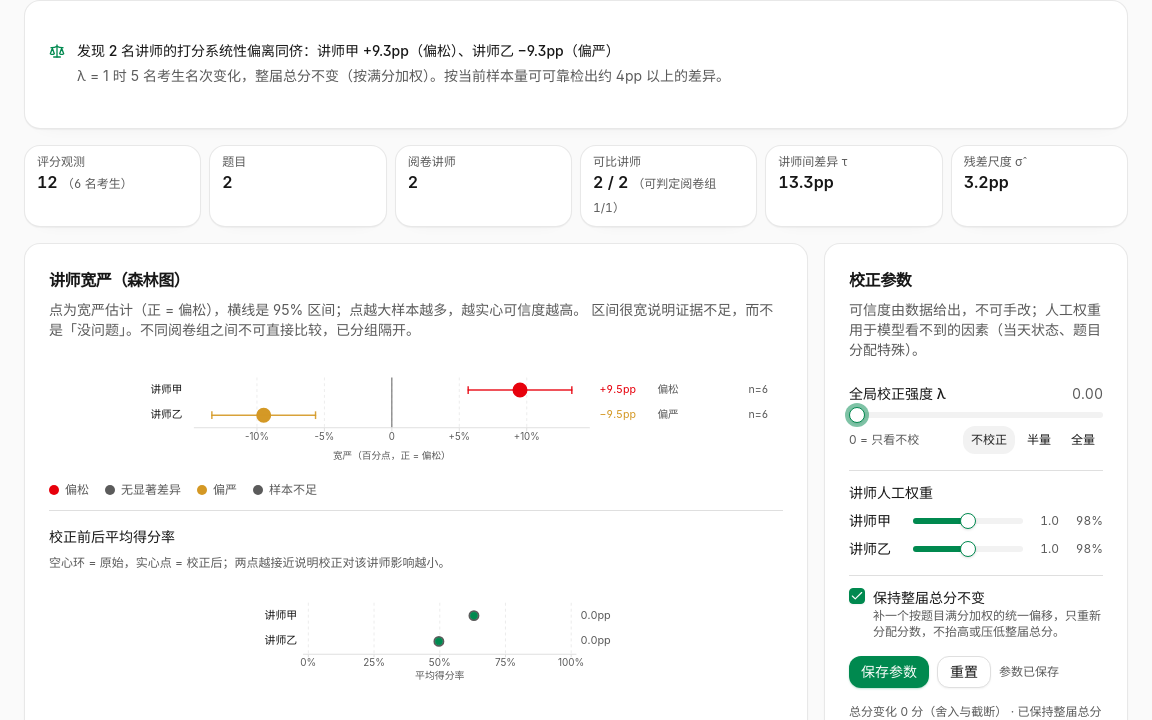
Test: GradingFairnessDashboard › 保存参数把 flowId、λ 与人工权重交给服务端，并在成功后清掉「未保存」提示
Expected: the text "参数已保存" is shown, x1=999 y1=664 x2=1059 y2=680
Press End
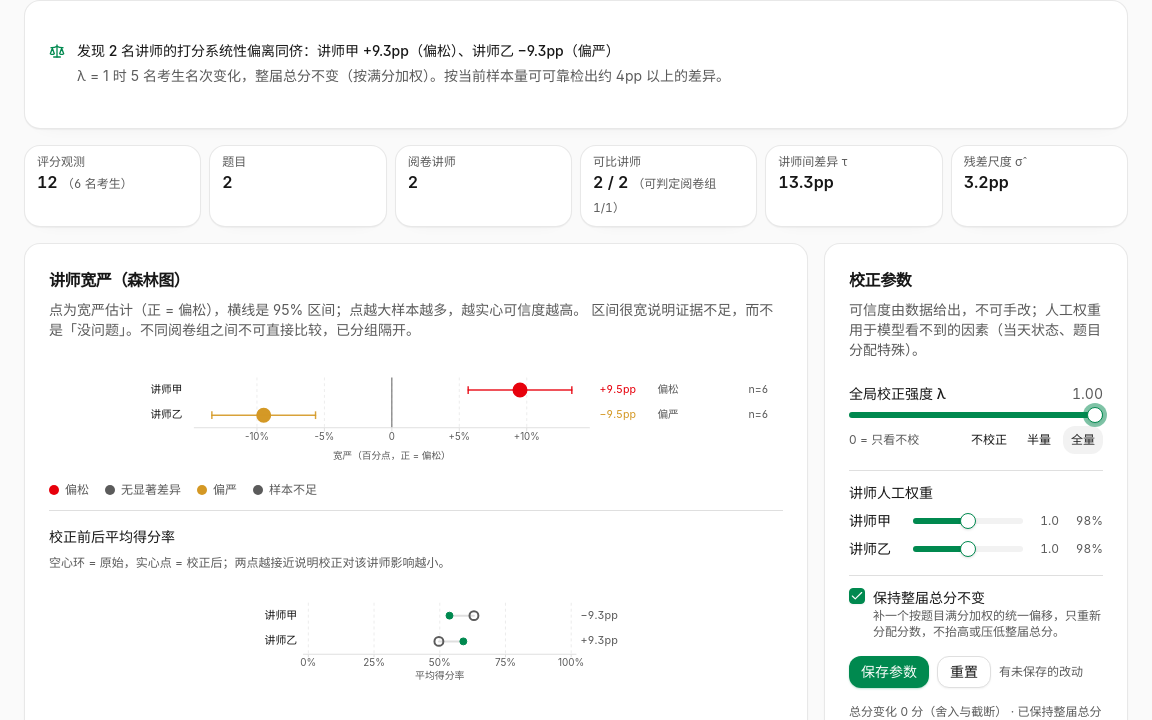
Now the text "有未保存的改动" is shown, box x1=999 y1=664 x2=1083 y2=680
Click the button "保存参数": coordinates (889, 672) x1=849 y1=656 x2=929 y2=688
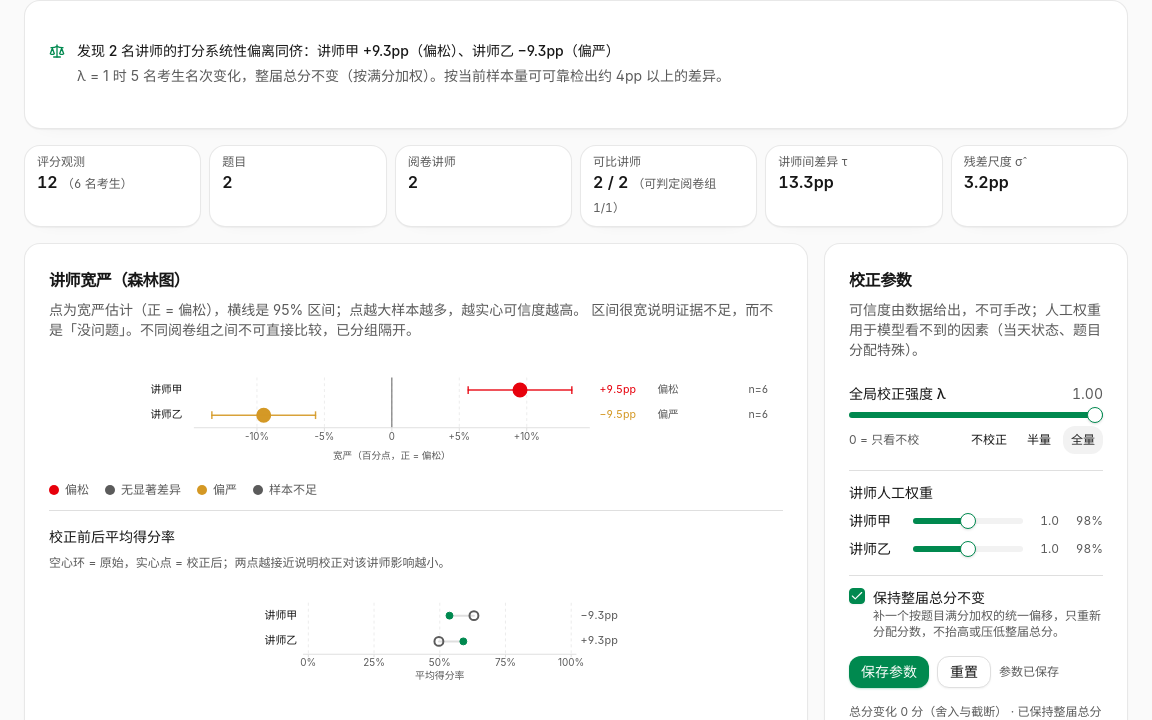
Now the text "参数已保存" is shown, box x1=999 y1=664 x2=1059 y2=680
Now the text "有未保存的改动" is gone
